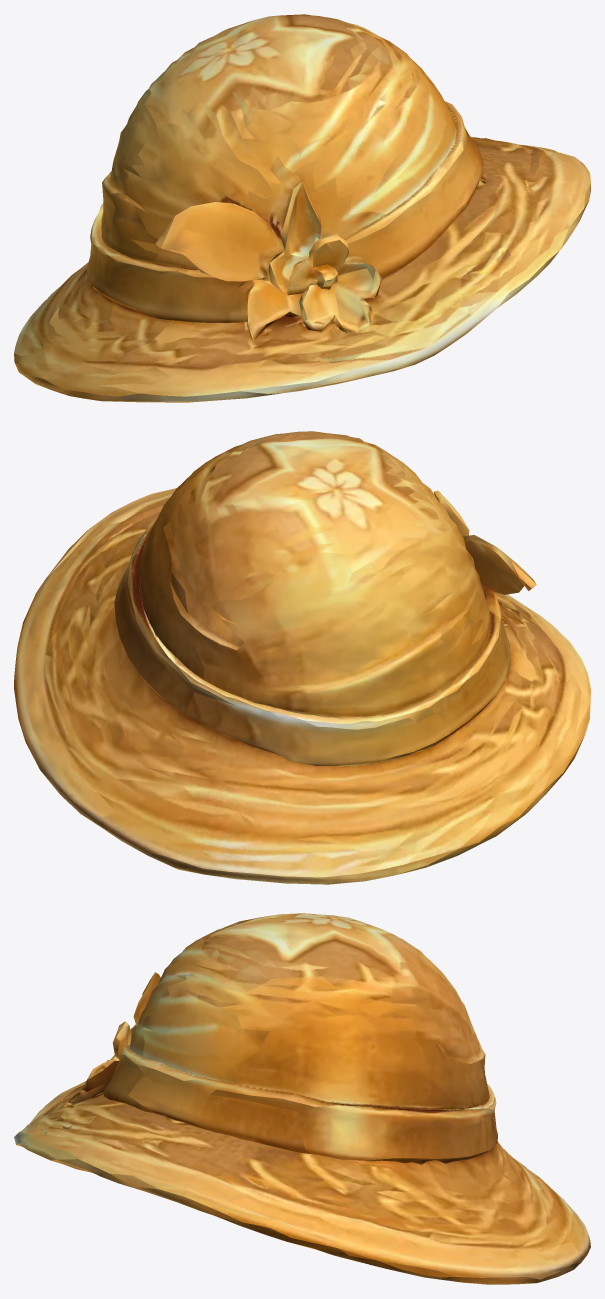
File: hat-gold.glb
3 renders of one model, top to bottom at view 1: azimuth 30°, elevation 25°; view 2: azimuth 150°, elevation 25°; view 3: azimuth 270°, elevation 25°, orthographic. The views are drawn at different scales.
Visible parts, largest first — view 1: geometry_0; view 2: geometry_0; view 3: geometry_0.
Part boxes in pixels (<box>): geometry_0: <box>14,14,590,402</box>; geometry_0: <box>14,431,590,884</box>; geometry_0: <box>14,913,590,1284</box>.
Size of the model in its own units: 0.35 by 0.2139 by 0.3422.
Materials: 1 (1 with a texture image).
